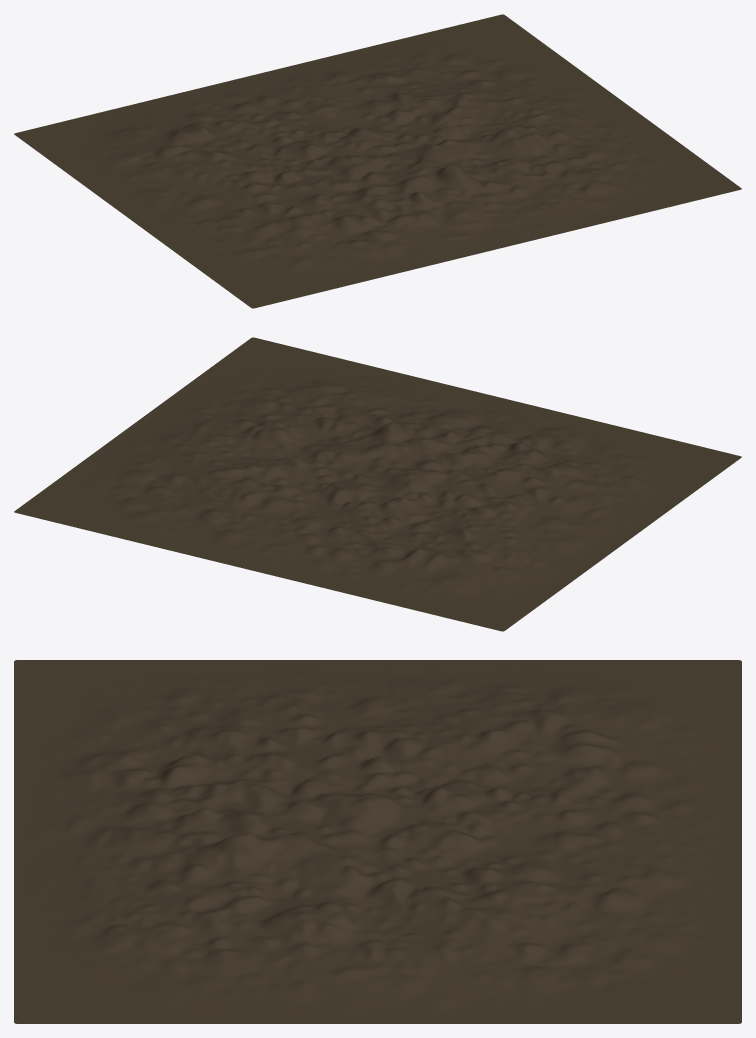
File: SM_Terrain_3.fbx
3 renders of one model, top to bottom at view 1: azimuth 30°, elevation 25°; view 2: azimuth 150°, elevation 25°; view 3: azimuth 270°, elevation 25°, orthographic. The views are drawn at different scales.
Visible parts, largest first — view 1: Terrain; view 2: Terrain; view 3: Terrain.
Boxes of the visible parts, box(x1,y1,x2,y2) form: Terrain: box(14, 14, 741, 308); Terrain: box(14, 337, 741, 631); Terrain: box(14, 660, 741, 1023).
Bounding box in the file's own units: 446000 × 377000 × 17261.
